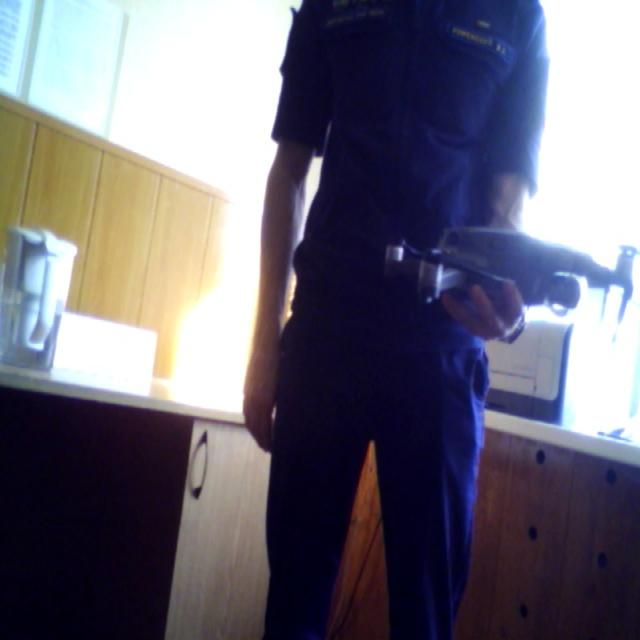drone: (373, 195, 640, 340)
